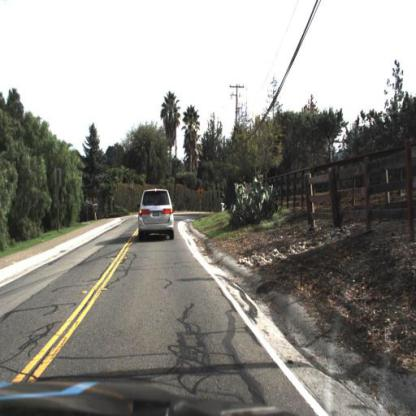car: (131, 174, 182, 255)
